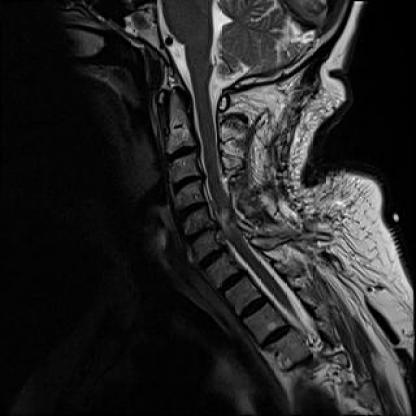Disc Protrusionrotation: (192, 248, 232, 271), (174, 202, 211, 219), (170, 174, 204, 191), (182, 227, 219, 242)
Osteophytesrotation: (170, 174, 204, 191), (182, 227, 219, 242)
